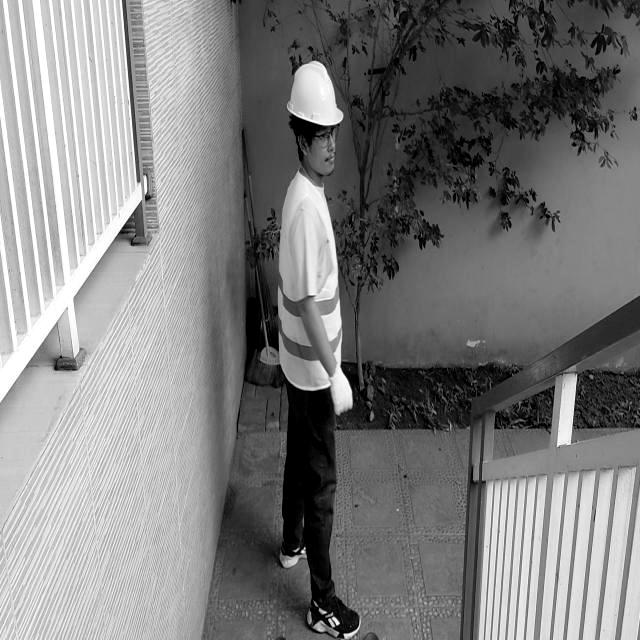No-Boots: (304, 592, 366, 637)
Vest: (277, 171, 350, 392)
